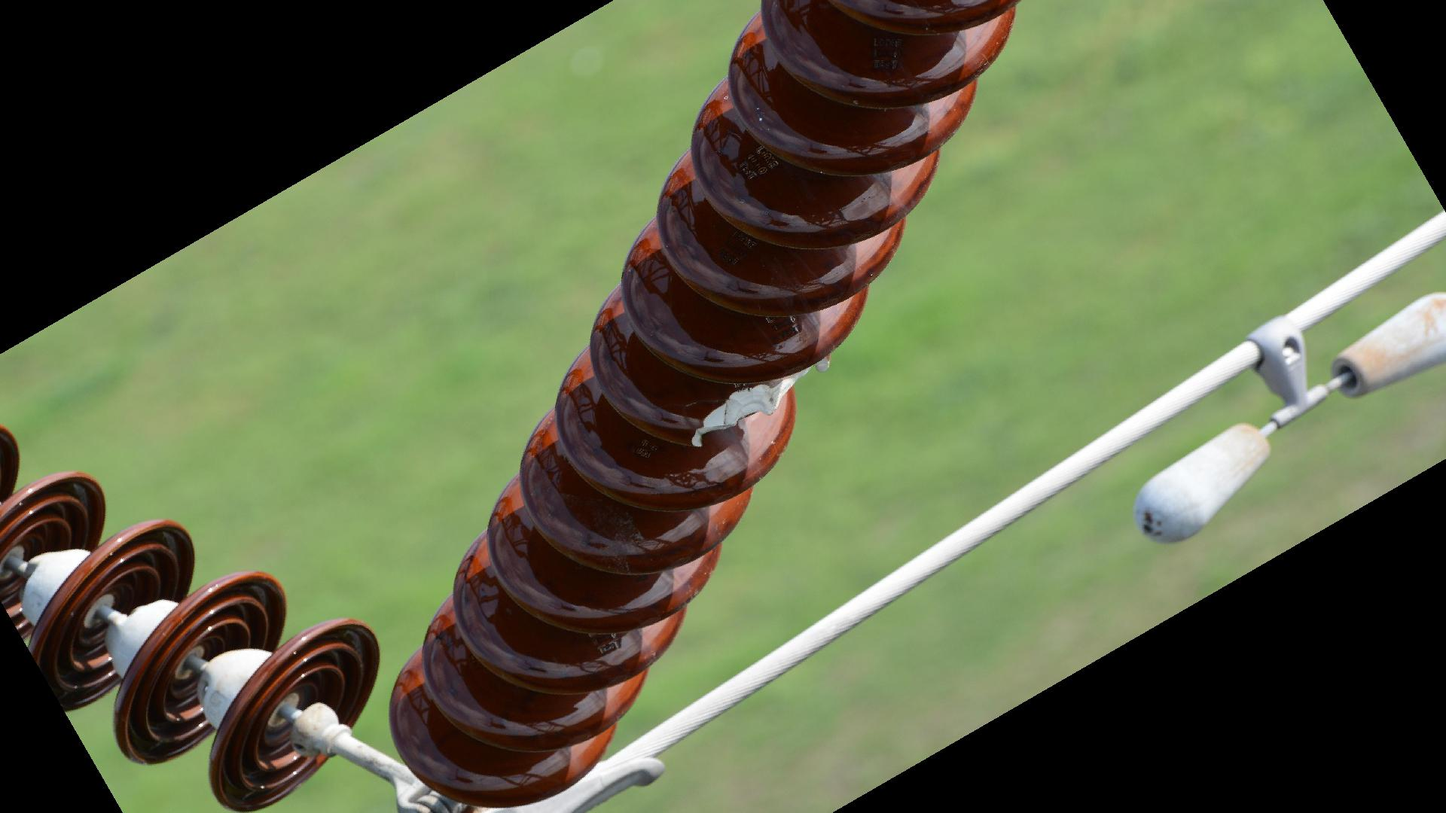insulator: (387, 1, 1024, 813), (1, 414, 390, 813)
insulator_breakage: (674, 348, 839, 457)
